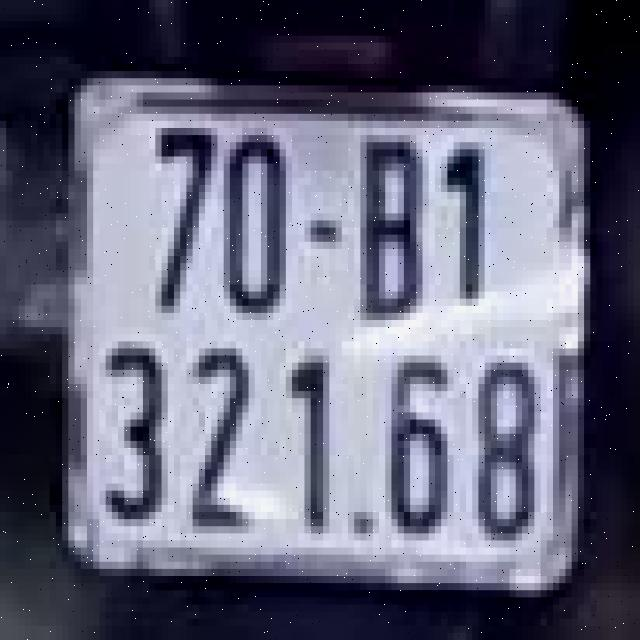0: (220, 121, 302, 334)
1: (283, 341, 345, 569), (435, 124, 491, 330)
2: (177, 327, 252, 541)
3: (93, 331, 180, 537)
6: (379, 345, 454, 544)
7: (143, 110, 217, 331)
8: (482, 348, 544, 554)
B: (338, 114, 432, 348)
